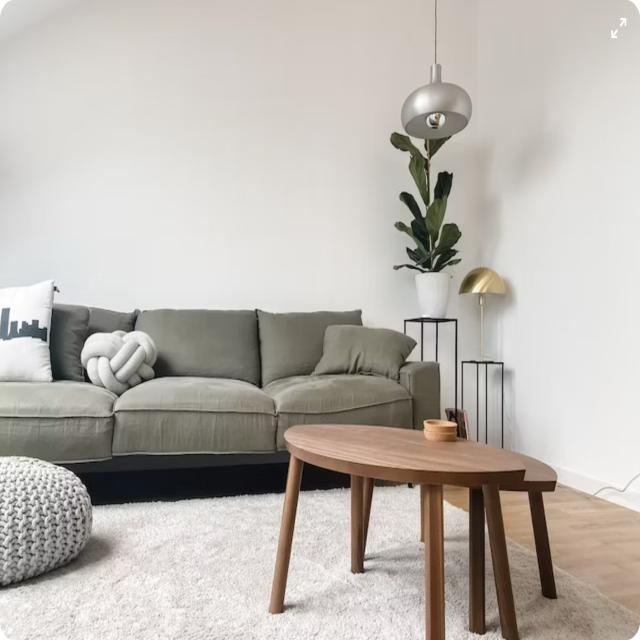lamp: (403, 0, 471, 147), (463, 258, 507, 364)
pillow: (314, 315, 417, 380), (0, 267, 58, 381), (46, 294, 90, 375)
potted plant: (388, 124, 459, 314)
sofa: (2, 279, 439, 468)
table: (286, 413, 560, 634)
